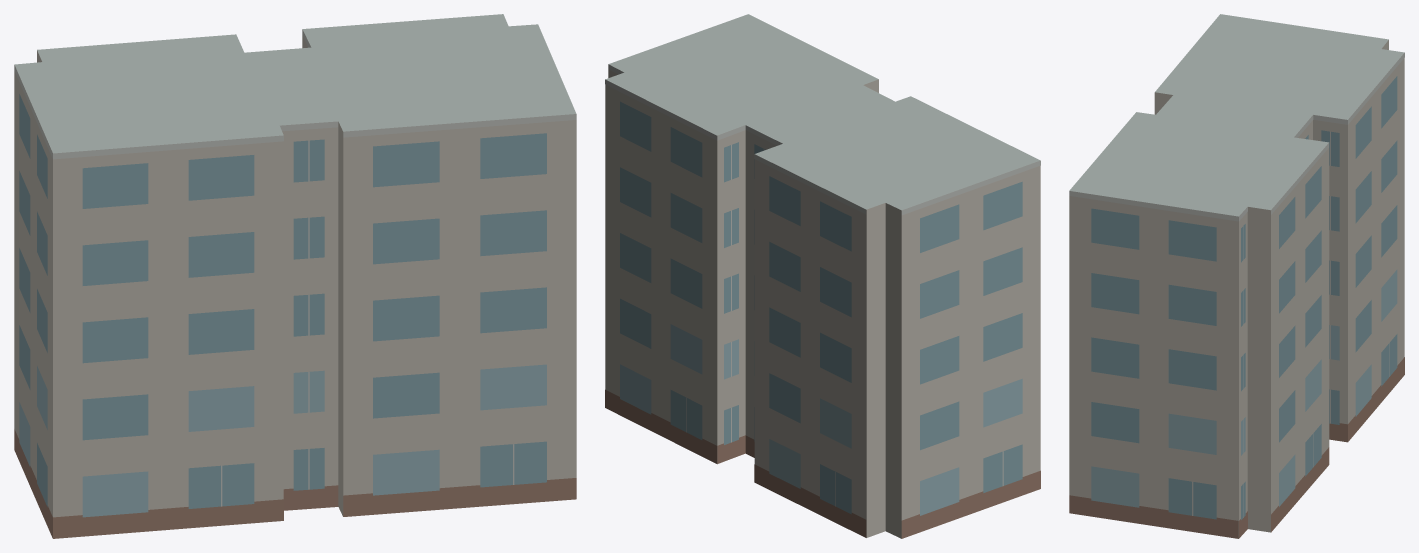
Rendered from survey-upis-32598091.glb.
The picture shows the model from 3 angles, left to right: view 1: azimuth 30°, elevation 25°; view 2: azimuth 150°, elevation 25°; view 3: azimuth 270°, elevation 25°; orthographic projection. The views are drawn at different scales.
Parts seen in each view (by area): view 1: survey-upis-32598091.tmp; view 2: survey-upis-32598091.tmp; view 3: survey-upis-32598091.tmp.
Boxes of the visible parts, <box> form: survey-upis-32598091.tmp: <box>14,14,576,538</box>; survey-upis-32598091.tmp: <box>605,14,1040,538</box>; survey-upis-32598091.tmp: <box>1069,14,1404,538</box>.
Bounding box in the file's own units: 21.3 × 15.8 × 14.92.
